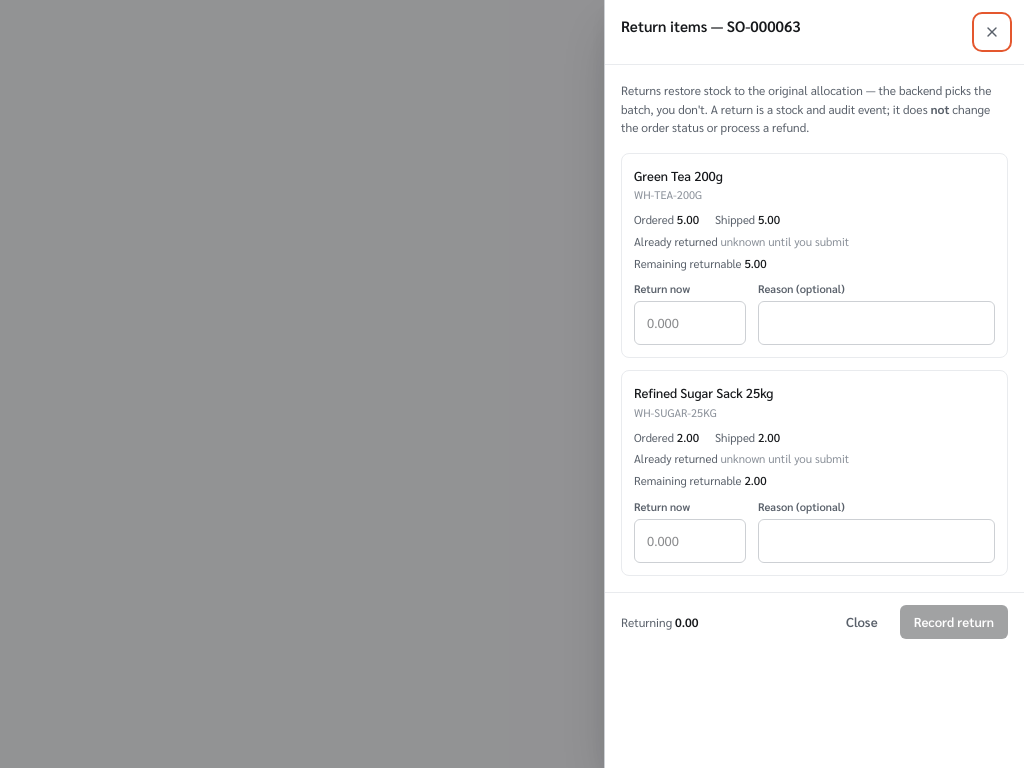
ReturnDrawer › on success shows the backend-recorded totals and updates 'already returned'
Type "2" into the field named "Return quantity for Green Tea 200g" at point(690, 324), box [634,302,746,346]
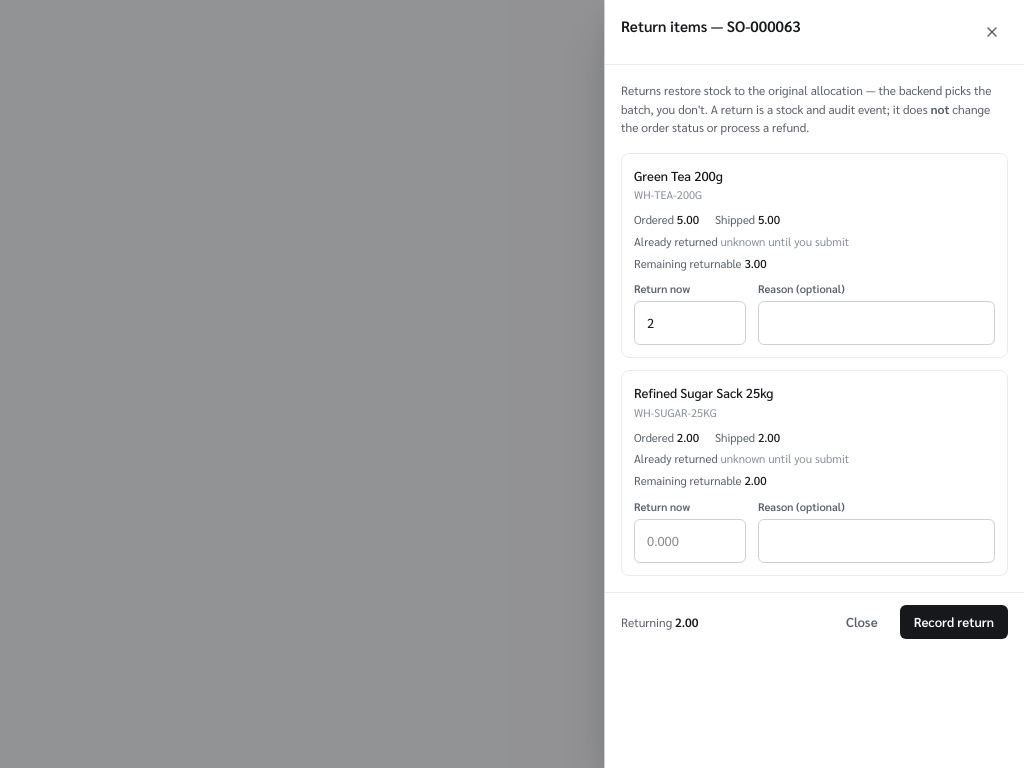
Click the button "Record return" at point(954, 622), box [900,605,1008,639]
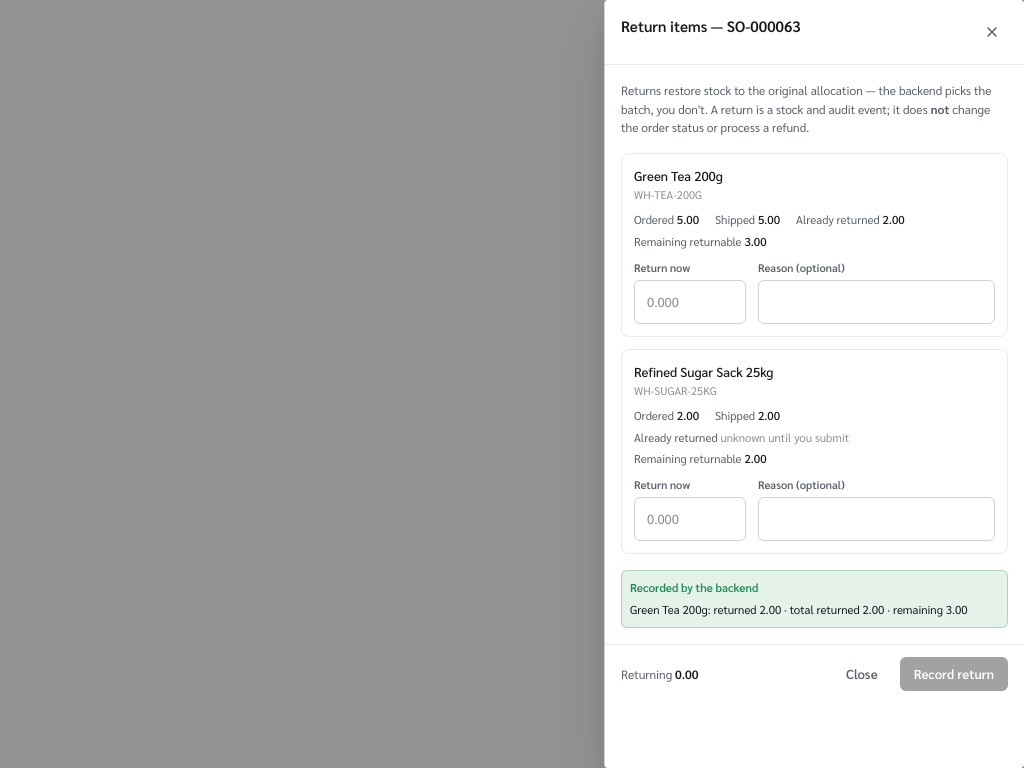
expect the text "Recorded by the backend" is shown: met, box [630,580,758,595]
expect the text "total returned" is shown: met, box [781,602,860,617]
